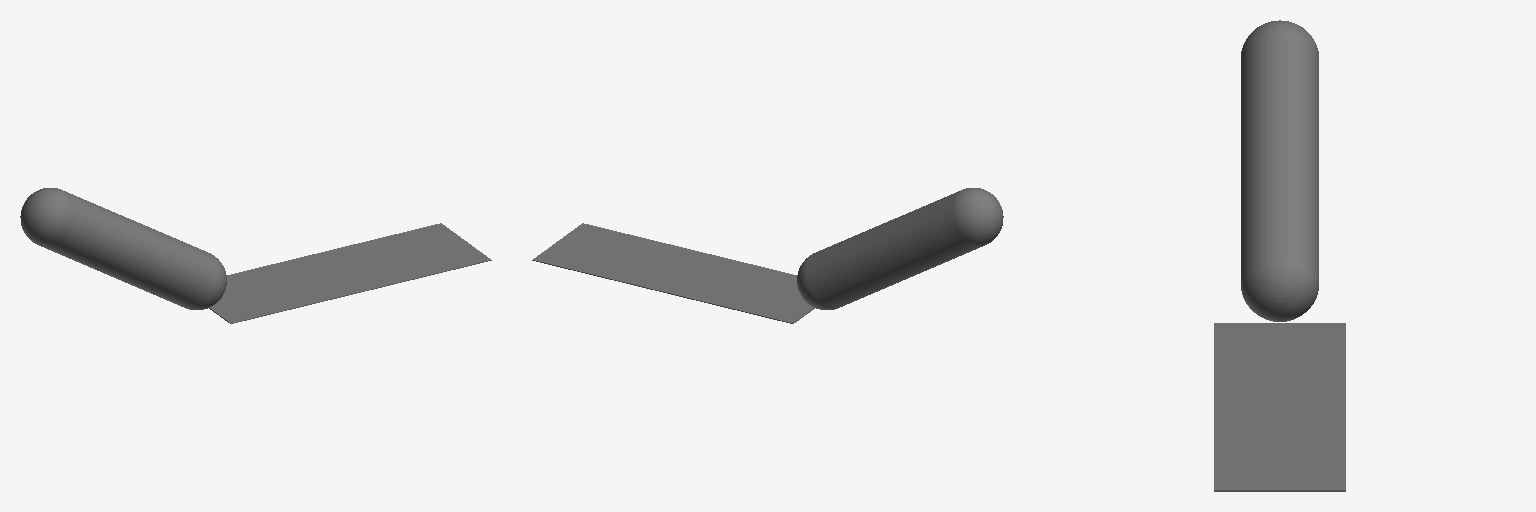
robot.urdf — spatula:
<robot name="spatula">
  <!-- links -->
  <link name="pad">
    <inertial>
      <origin xyz="0 0 0" rpy="0 0 0"/>
      <mass value="0.05"/>
      <inertia ixx="0"  ixy="0"  ixz="0" iyy="0" iyz="0" izz="0" />
    </inertial>
    <visual>
      <origin xyz="0 0 0" rpy="0 0 0" />
      <geometry>
        <mesh filename="pad.obj"/>
      </geometry>
      <material name="grey">
        <color rgba="0.5 0.5 0.5 1.0"/>
      </material>
    </visual>
    <collision>
      <origin xyz="0 0 0" rpy="0 0 0"/>
      <geometry>
        <mesh filename="pad.obj"/>
      </geometry>
    </collision>
  </link>
  <link name="handle">
    <inertial>
      <origin xyz="0 0 0" rpy="0 0 0"/>
      <mass value="0.05"/>
      <inertia ixx="0"  ixy="0"  ixz="0" iyy="0" iyz="0" izz="0" />
    </inertial>
    <visual>
      <origin xyz="0 0 0" rpy="0 0 0" />
      <geometry>
        <mesh filename="handle.obj"/>
      </geometry>
      <material name="grey">
        <color rgba="0.5 0.5 0.5 1.0"/>
      </material>
    </visual>
    <collision>
      <origin xyz="0 0 0" rpy="0 0 0"/>
      <geometry>
        <mesh filename="handle.obj"/>
      </geometry>
    </collision>
  </link>

  <!-- joints -->
  <joint name="joint" type="fixed">
    <origin rpy="0 -1.0 0" xyz="-0.08 0 0.015"/>
    <parent link="pad" />
    <child link="handle" />
    <axis xyz="0 0 0" />
  </joint>
</robot>

--- Facts derived from the render (not from the file) ---
Views: 3 orthographic renders of the robot side by side, from view 1: azimuth 30°, elevation 25°; view 2: azimuth 150°, elevation 25°; view 3: azimuth 270°, elevation 25°.
Model spatula with 2 links and 1 joints (1 fixed), rooted at pad, posed all joints at 0.
Links seen in each view (by area): view 1: handle, pad; view 2: handle, pad; view 3: pad, handle.
Boxes of the visible links, x1=… form: handle: x1=20, y1=188, x2=226, y2=309; pad: x1=209, y1=223, x2=491, y2=323; handle: x1=797, y1=188, x2=1003, y2=309; pad: x1=532, y1=223, x2=814, y2=323; pad: x1=1214, y1=323, x2=1345, y2=491; handle: x1=1241, y1=20, x2=1318, y2=321.
Bounding box of the posed robot: 0.2541 × 0.05 × 0.0843 m (x, y, z).
2 mesh visuals loaded from 2 distinct referenced files (2 OBJ).